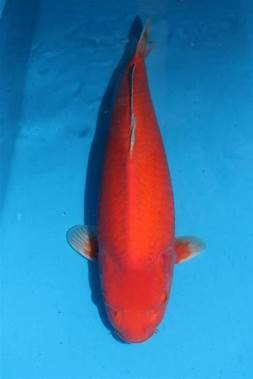red: (65, 18, 203, 343)
